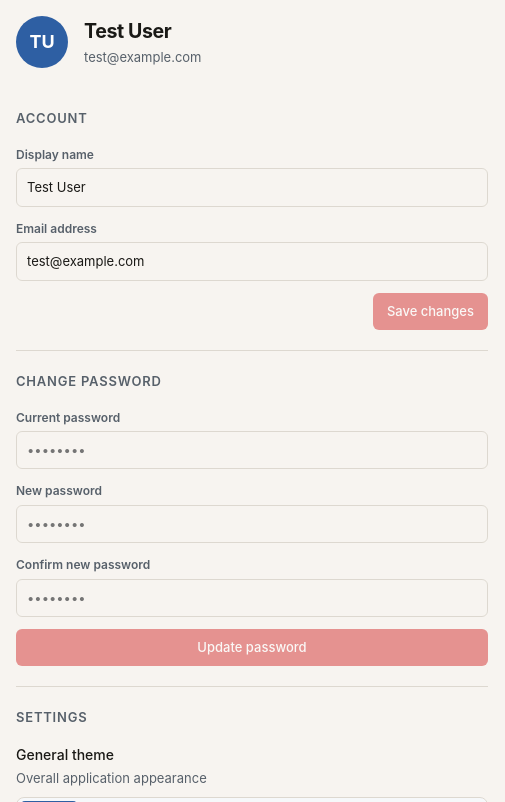
it: AccountPage — change password › shows success message after password change
The image size is (505, 802).
In the password field labelled "Current password": (252, 450) [16,431,488,470], type "oldpass1"
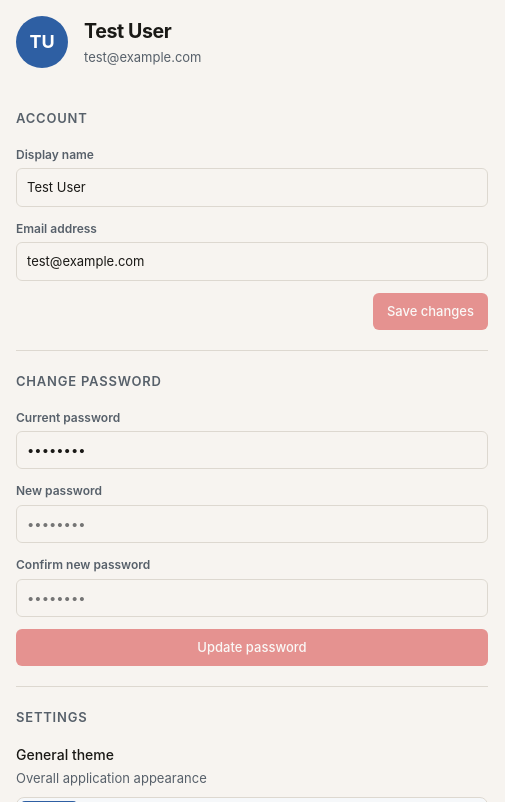
In the password field labelled "New password": (252, 524) [16,505,488,544], type "newpass99"
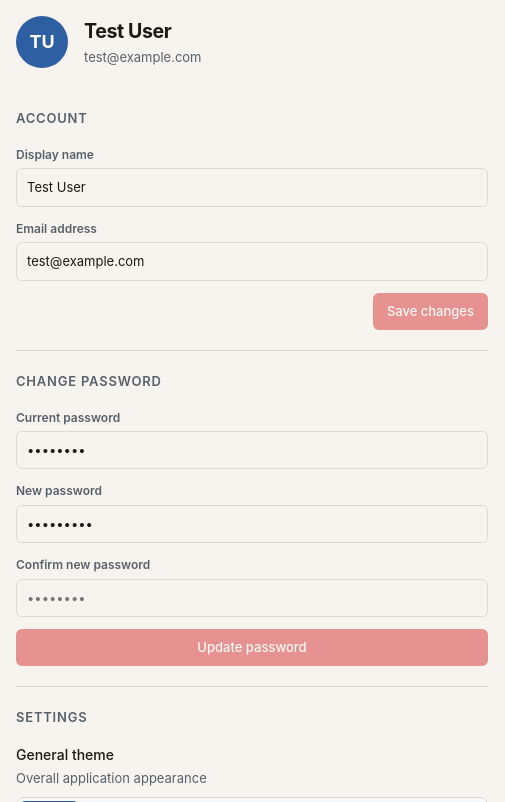
In the password field labelled "Confirm new password": (252, 598) [16,579,488,618], type "newpass99"
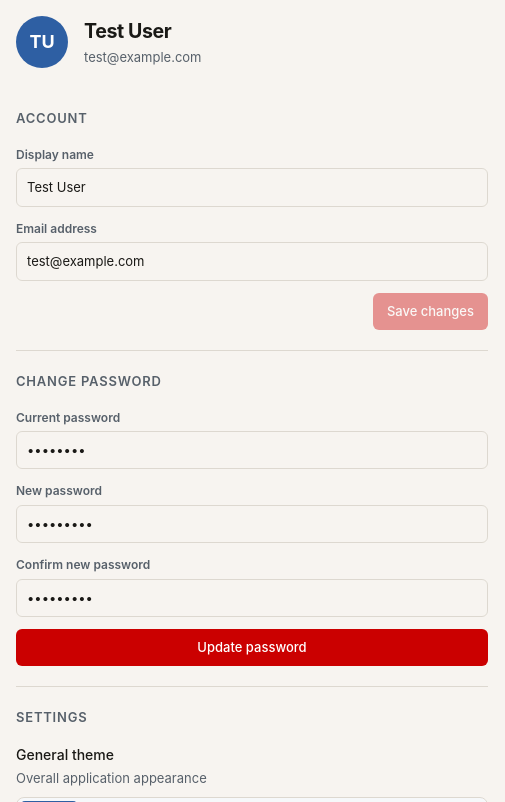
Click the button "Update password": (252, 648) [16,630,488,666]
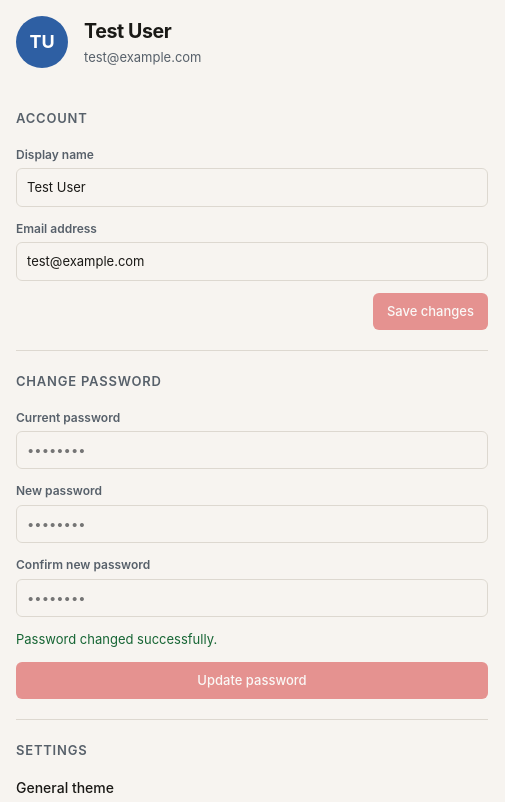
Check: the text "Password changed successfully." is shown, box [16,632,217,648]
